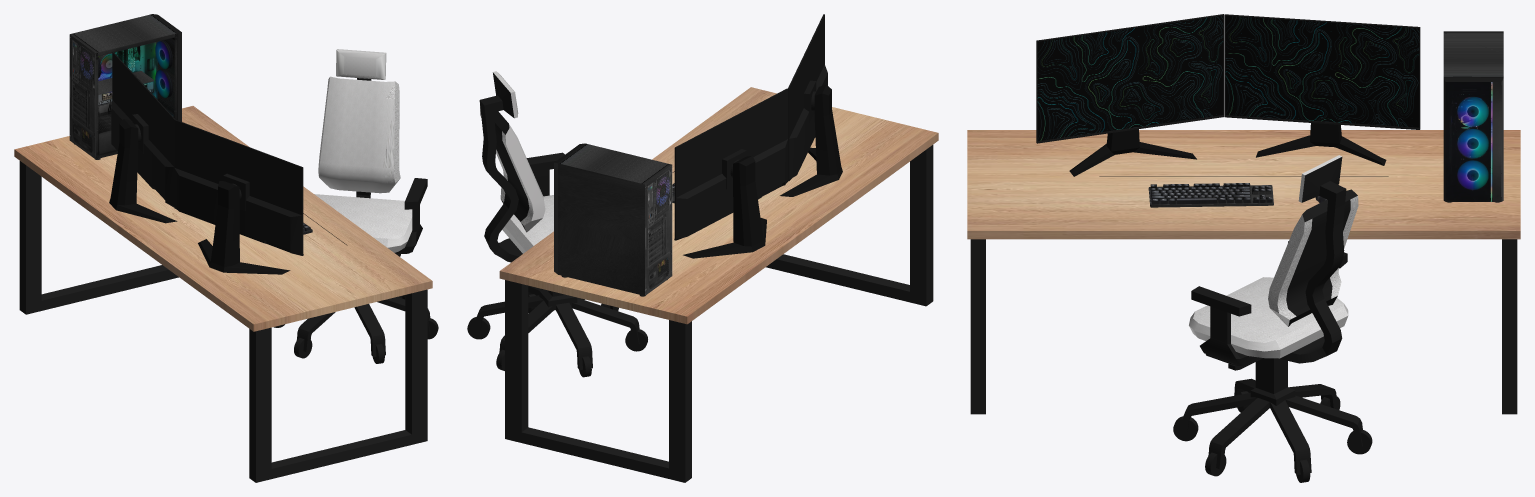
File: gaming_setup_low-poly.glb
The picture shows the model from 3 angles, left to right: view 1: azimuth 30°, elevation 25°; view 2: azimuth 150°, elevation 25°; view 3: azimuth 270°, elevation 25°; orthographic projection. The views are drawn at different scales.
Parts seen in each view (by area): view 1: Plane_0, Cube_Cube.001_10, Plane.001_1, Cylinder.001_5, Plane.002_2, Cylinder_3, Cube.002_6, Cube.001_4; view 2: Plane_0, Plane.001_1, Plane.002_2, Cube_Cube.001_10, Cylinder_3, Cylinder.001_5, Cube.001_4, Cube.002_6; view 3: Plane_0, Cube_Cube.001_10, Cylinder_3, Cylinder.001_5, Plane.002_2, Plane.001_1, Plane.003_7, Cube.001_4, Cube.002_6.
Part boxes in pixels (x1,y1,x2,y2): Plane_0: (14,106,432,331); Cube_Cube.001_10: (273,49,438,363); Plane.001_1: (19,161,427,482); Cylinder.001_5: (174,119,303,255); Plane.002_2: (69,14,181,159); Cylinder_3: (111,52,174,207); Cube.002_6: (198,181,290,274); Cube.001_4: (109,119,177,223); Plane_0: (499,87,938,324); Plane.001_1: (505,145,933,482); Plane.002_2: (554,143,672,296); Cube_Cube.001_10: (467,71,647,377); Cylinder_3: (674,88,787,240); Cylinder.001_5: (788,14,827,181); Cube.001_4: (683,155,766,258); Cube.002_6: (780,84,842,196); Plane_0: (967,130,1520,239); Cube_Cube.001_10: (1173,155,1372,482); Cylinder_3: (1224,14,1420,129); Cylinder.001_5: (1036,14,1224,143); Plane.002_2: (1443,31,1503,202); Plane.001_1: (970,239,1517,414); Plane.003_7: (1148,183,1273,207); Cube.001_4: (1256,123,1386,165); Cube.002_6: (1069,129,1196,176).
Size of the model in its own units: 1.79 by 1.56 by 2.45.
13 materials, 8 textured.
